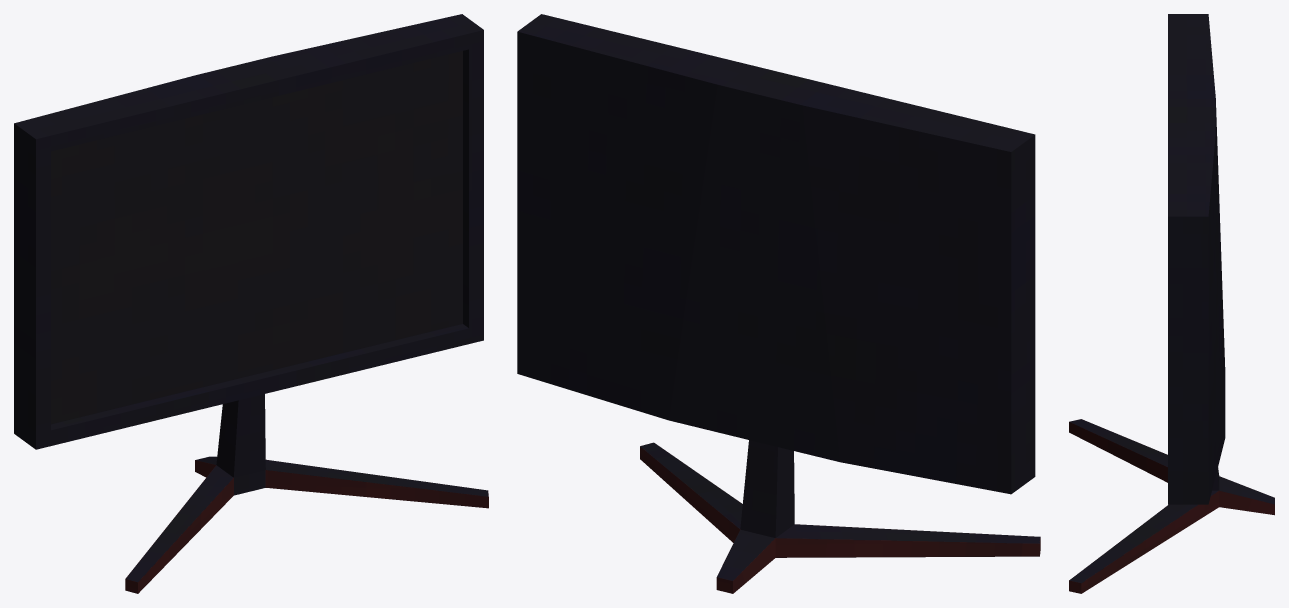
Rendered from monitor.fbx.
3 views of the same model, side by side, from view 1: azimuth 30°, elevation 25°; view 2: azimuth 150°, elevation 25°; view 3: azimuth 270°, elevation 25° (orthographic). The views are drawn at different scales.
Parts seen in each view (by area): view 1: monitor; view 2: monitor; view 3: monitor.
Boxes of the visible parts, box(x1,y1,x2,y2) form: monitor: box(14, 14, 488, 593); monitor: box(517, 14, 1040, 593); monitor: box(1069, 14, 1274, 593).
Size of the model in its own units: 89.35 by 81.45 by 38.35.
1 material, 1 textured.
